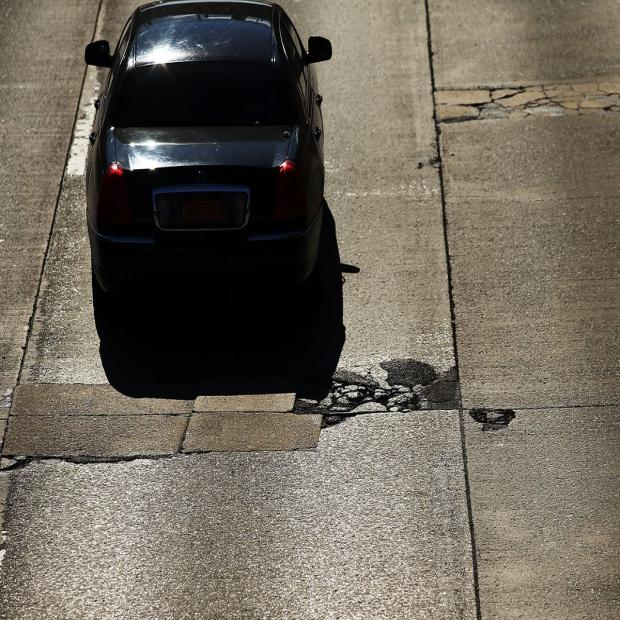lubang: (294, 358, 459, 428), (435, 77, 619, 123), (469, 408, 516, 431)
